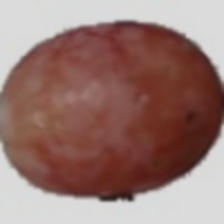grapes: (0, 42, 198, 192)
